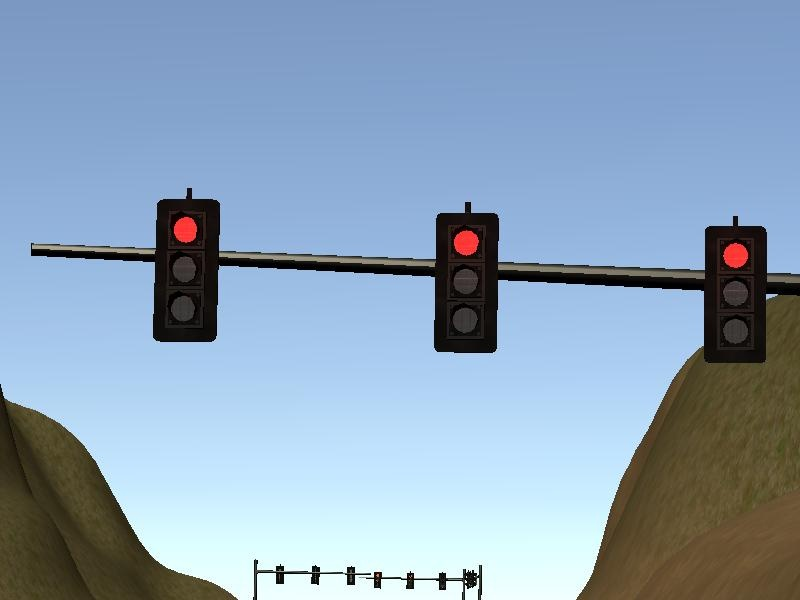red: (154, 199, 221, 343), (434, 213, 500, 355), (702, 227, 767, 364), (373, 571, 383, 589), (407, 572, 416, 590), (439, 574, 448, 591)
